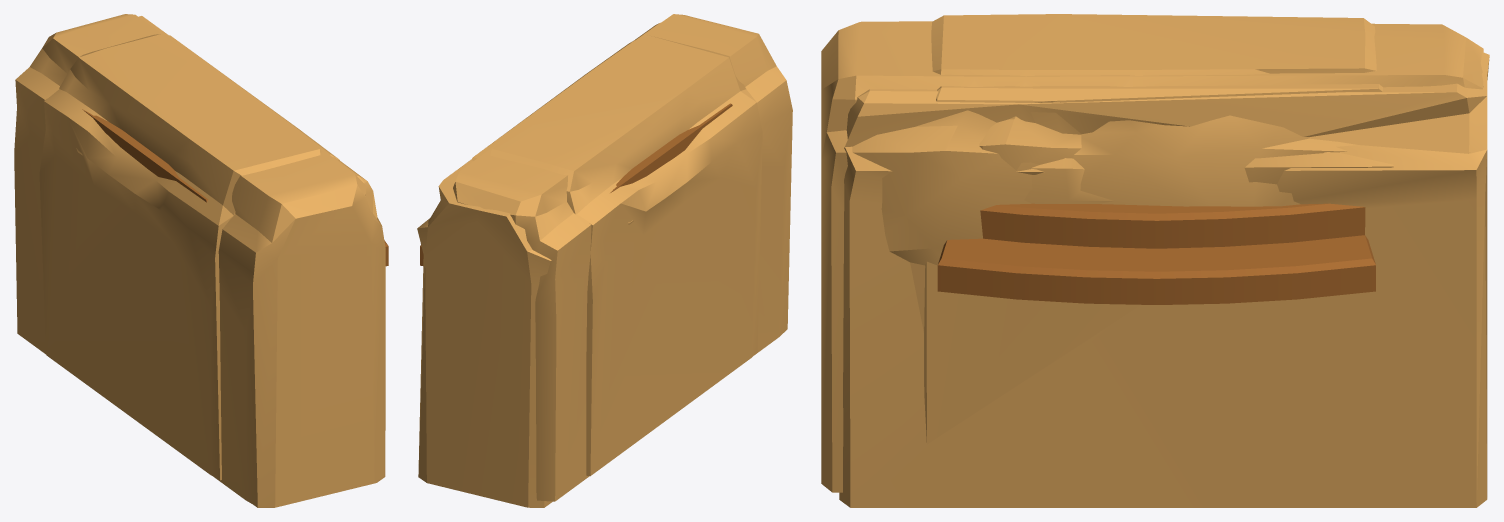
The model's file is EgyptLowProps.fbx.
3 views of the same model, side by side, from view 1: azimuth 30°, elevation 25°; view 2: azimuth 150°, elevation 25°; view 3: azimuth 270°, elevation 25° (orthographic). The views are drawn at different scales.
Parts seen in each view (by area): view 1: Wall_low, Wall.002_low, Steps_low, Wall.003_low, Wall.001_low; view 2: Wall_low, Wall.003_low, Wall.002_low, Steps_low, Wall.001_low; view 3: Wall.003_low, Wall.002_low, Steps_low, Wall_low, Wall.001_low.
Part boxes in pixels (x1,y1,x2,y2): Wall_low: [39, 34, 322, 480]; Wall.002_low: [14, 14, 383, 507]; Steps_low: [82, 109, 388, 266]; Wall.003_low: [138, 16, 385, 507]; Wall.001_low: [166, 35, 339, 160]; Wall_low: [490, 34, 762, 476]; Wall.003_low: [417, 22, 660, 507]; Wall.002_low: [453, 14, 792, 501]; Steps_low: [420, 103, 732, 265]; Wall.001_low: [471, 40, 635, 160]; Wall.003_low: [839, 52, 1489, 507]; Wall.002_low: [821, 21, 1483, 492]; Steps_low: [937, 203, 1375, 304]; Wall_low: [931, 14, 1376, 170]; Wall.001_low: [924, 84, 1393, 444].
Bounding box in the file's own units: 56.28 × 81.69 × 118.
